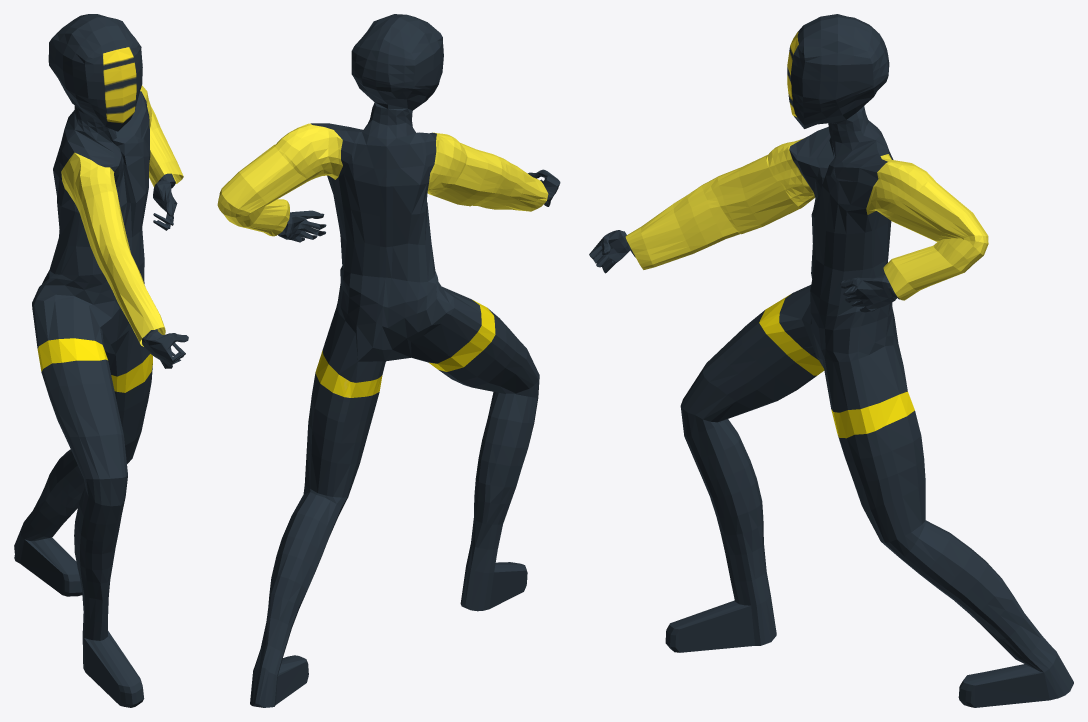
Rendered from Sentry_WF_000025.obj.
3 views of the same model, side by side, from view 1: azimuth 30°, elevation 25°; view 2: azimuth 150°, elevation 25°; view 3: azimuth 270°, elevation 25° (orthographic). The views are drawn at different scales.
Parts seen in each view (by area): view 1: Cube; view 2: Cube; view 3: Cube.
Boxes of the visible parts, x1,y1,x2,y2 form: Cube: [14, 14, 188, 707]; Cube: [217, 14, 560, 707]; Cube: [589, 14, 1073, 707].
Size of the model in its own units: 1.18 by 3.64 by 2.41.
